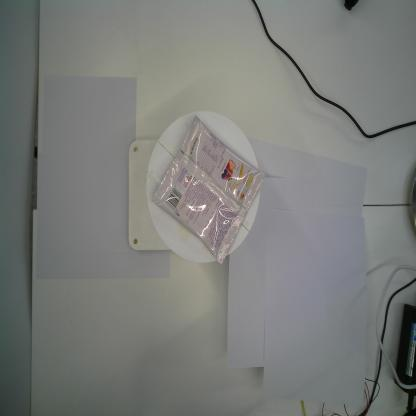Instant Drink: (151, 115, 265, 266)
